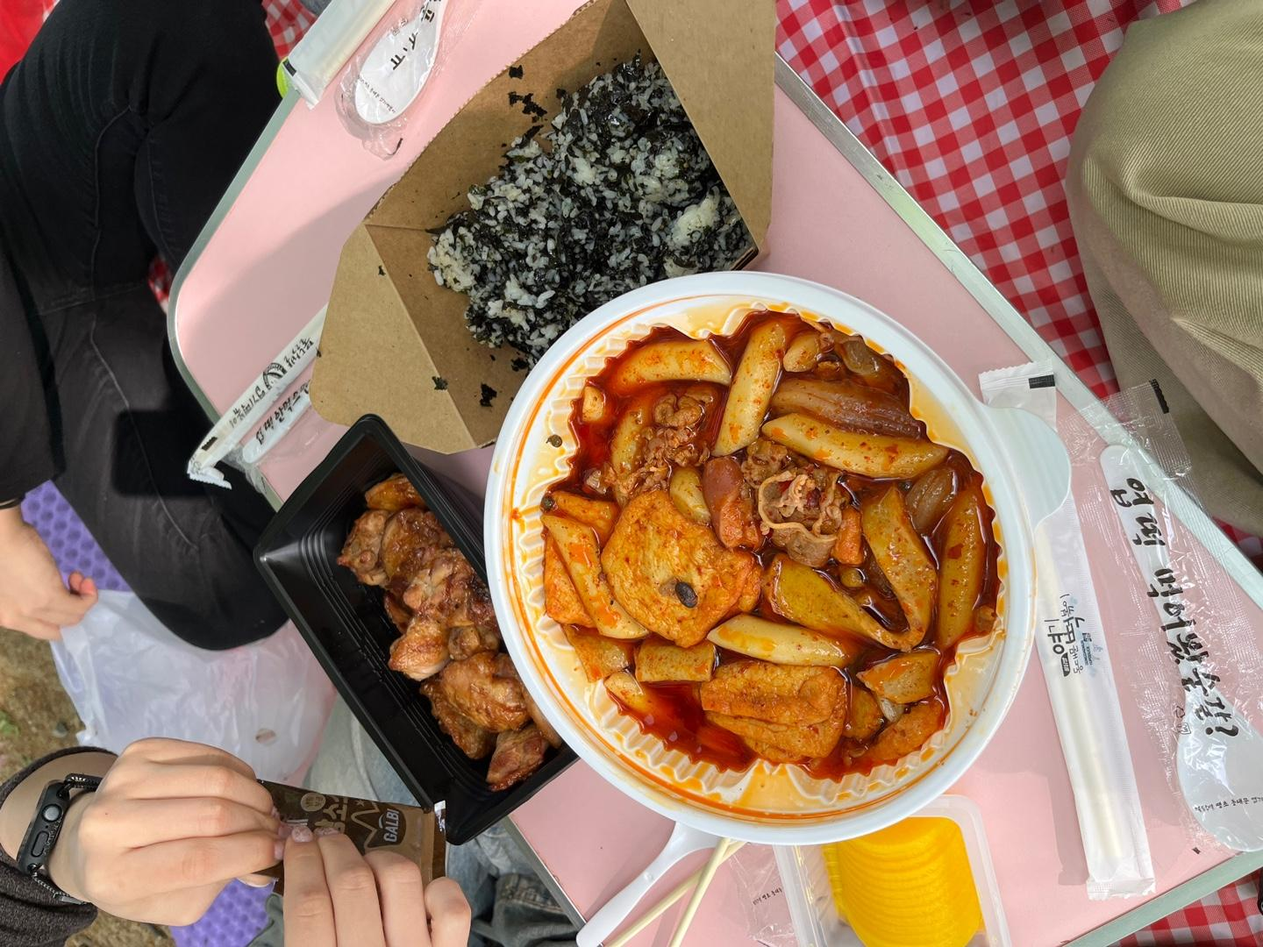Lunch Box: (483, 272, 1070, 845), (310, 0, 773, 452), (255, 416, 574, 844)
